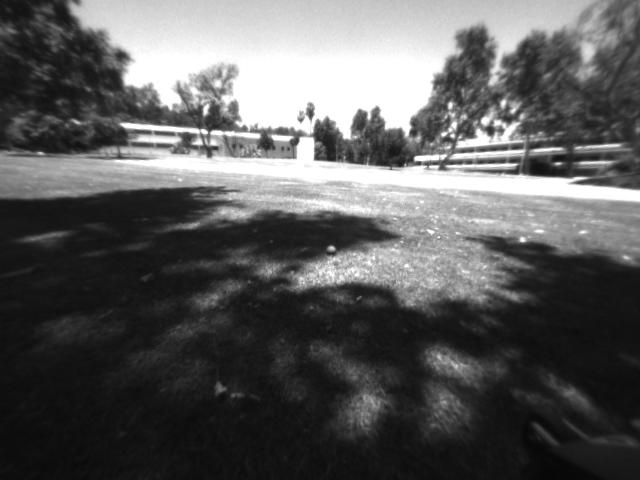dogtoy: (322, 240, 340, 258)
